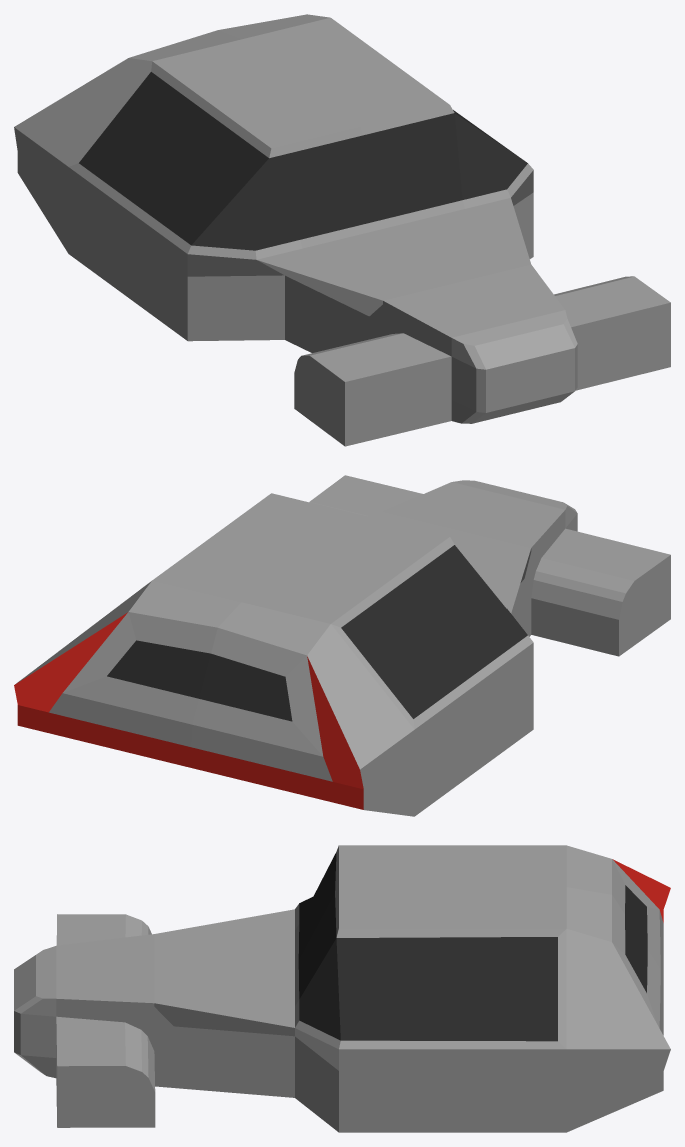
Rendered from flyingcoupe.fbx.
3 views of the same model, one above another, from view 1: azimuth 30°, elevation 25°; view 2: azimuth 150°, elevation 25°; view 3: azimuth 270°, elevation 25° (orthographic). The views are drawn at different scales.
Visible parts, largest first — view 1: flyingcoupe; view 2: flyingcoupe; view 3: flyingcoupe.
Boxes of the visible parts, left/top/right/bottom form: flyingcoupe: left=14, top=14, right=670, bottom=446; flyingcoupe: left=14, top=475, right=670, bottom=816; flyingcoupe: left=14, top=845, right=670, bottom=1132.
Bounding box in the file's own units: 832 × 396 × 1431.
